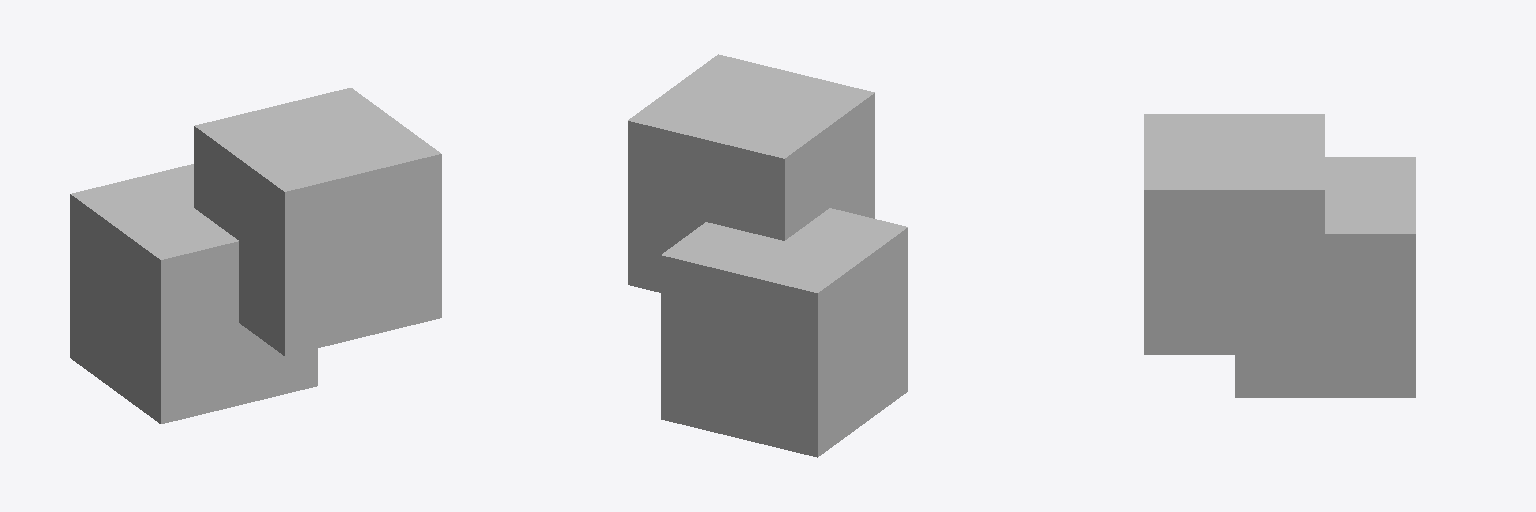
Rendered from pn3_test_shapes.obj.
3 views of the same model, side by side, from view 1: azimuth 30°, elevation 25°; view 2: azimuth 150°, elevation 25°; view 3: azimuth 270°, elevation 25° (orthographic).
Visible parts, largest first — view 1: Cube, Cube.001_Cube.004; view 2: Cube.001_Cube.004, Cube; view 3: Cube, Cube.001_Cube.004.
Boxes of the visible parts, x1,y1,x2,y2 form: Cube: [194, 88, 441, 355]; Cube.001_Cube.004: [70, 164, 317, 423]; Cube.001_Cube.004: [661, 208, 907, 457]; Cube: [628, 54, 874, 292]; Cube: [1144, 114, 1324, 354]; Cube.001_Cube.004: [1235, 157, 1415, 397].
Size of the model in its own units: 1.5 by 1.5 by 1.5.